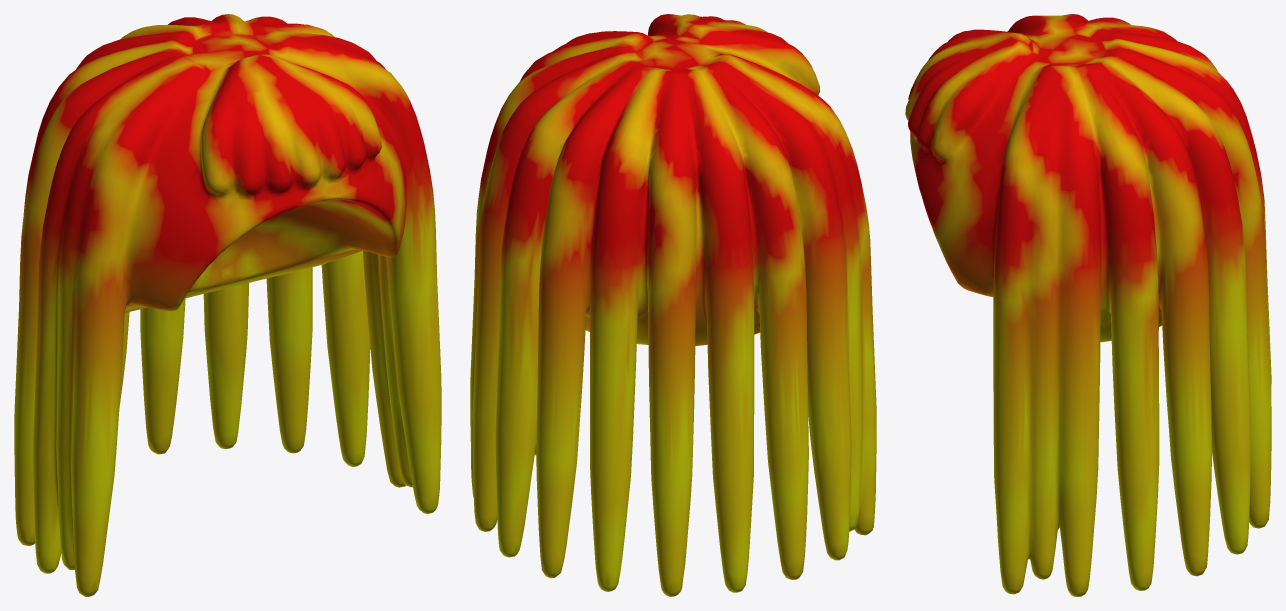
The model's file is bangs-long.glb.
3 renders of one model, left to right at view 1: azimuth 30°, elevation 25°; view 2: azimuth 150°, elevation 25°; view 3: azimuth 270°, elevation 25°, orthographic. The views are drawn at different scales.
Visible parts, largest first — view 1: part; view 2: part; view 3: part.
Part boxes in pixels (x1,y1,x2,y2): part: [14, 14, 441, 596]; part: [470, 14, 876, 596]; part: [905, 14, 1271, 596].
Bounding box in the file's own units: 2.71 × 3.41 × 2.38.
